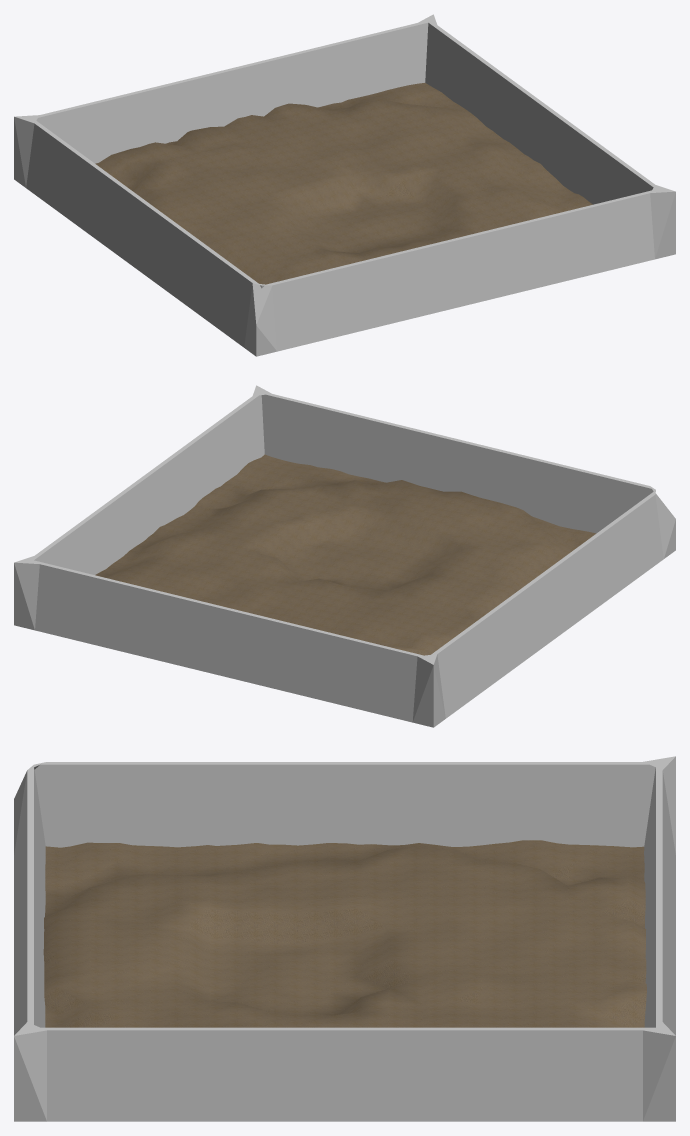
File: desert.obj
The picture shows the model from 3 angles, top to bottom: view 1: azimuth 30°, elevation 25°; view 2: azimuth 150°, elevation 25°; view 3: azimuth 270°, elevation 25°; orthographic projection. The views are drawn at different scales.
Visible parts, largest first — view 1: Grid.001_Grid_Material.001_metal047.jpg, Grid_Grid.002_Material_sand022.jpg; view 2: Grid.001_Grid_Material.001_metal047.jpg, Grid_Grid.002_Material_sand022.jpg; view 3: Grid.001_Grid_Material.001_metal047.jpg, Grid_Grid.002_Material_sand022.jpg.
Boxes of the visible parts, box(x1,y1,x2,y2) form: Grid.001_Grid_Material.001_metal047.jpg: box(14, 14, 675, 356); Grid_Grid.002_Material_sand022.jpg: box(95, 83, 592, 284); Grid.001_Grid_Material.001_metal047.jpg: box(14, 385, 675, 727); Grid_Grid.002_Material_sand022.jpg: box(95, 454, 596, 655); Grid.001_Grid_Material.001_metal047.jpg: box(14, 756, 675, 1121); Grid_Grid.002_Material_sand022.jpg: box(43, 840, 646, 1027).
Bounding box in the file's own units: 67.2 × 9.6 × 67.2.
